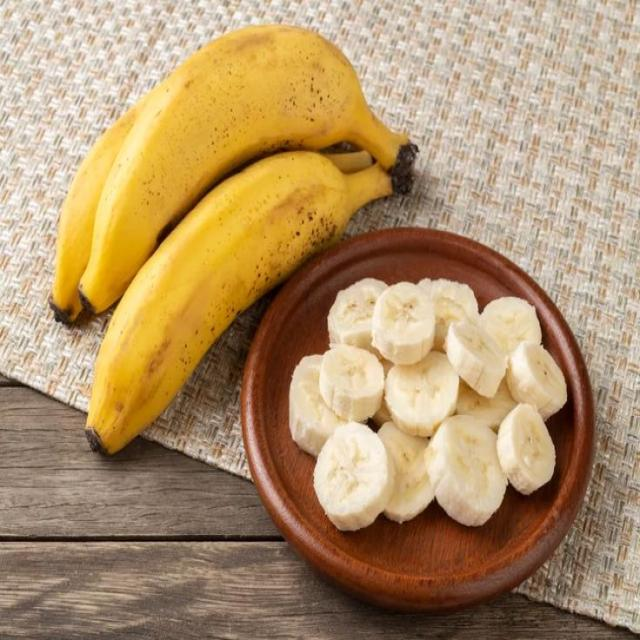banana slice: (426, 417, 506, 525), (314, 424, 394, 530), (385, 352, 459, 437), (289, 355, 345, 456), (378, 422, 433, 523), (498, 405, 555, 495), (373, 282, 434, 364), (320, 346, 384, 421), (507, 342, 566, 419), (446, 322, 506, 397), (420, 279, 479, 350), (328, 279, 386, 350), (480, 298, 541, 353), (456, 380, 516, 431), (373, 398, 392, 426)
unpeal banana: (71, 27, 412, 312), (85, 151, 399, 453), (50, 97, 147, 323)
